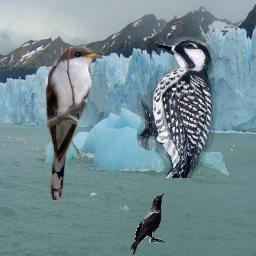Crow: (130, 192, 165, 255)
Cuckoo: (44, 45, 104, 200)
Woodpecker: (137, 35, 217, 178)
